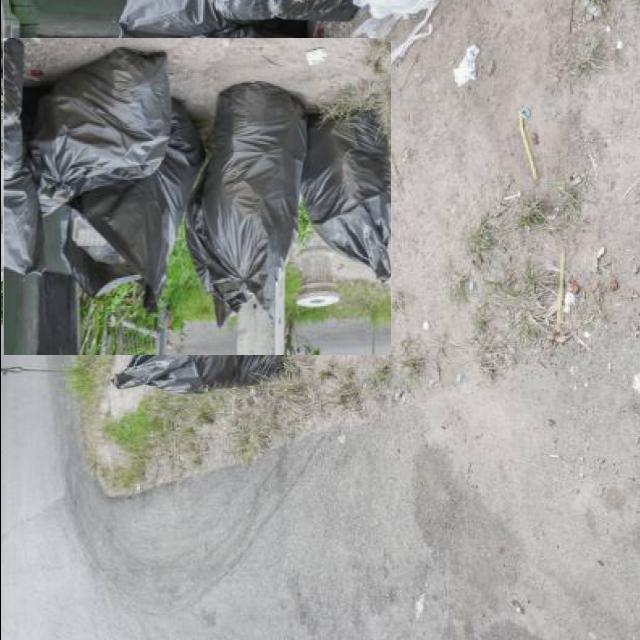Trashbag: (184, 83, 308, 336), (18, 45, 176, 195), (62, 169, 200, 303), (300, 104, 397, 289)
